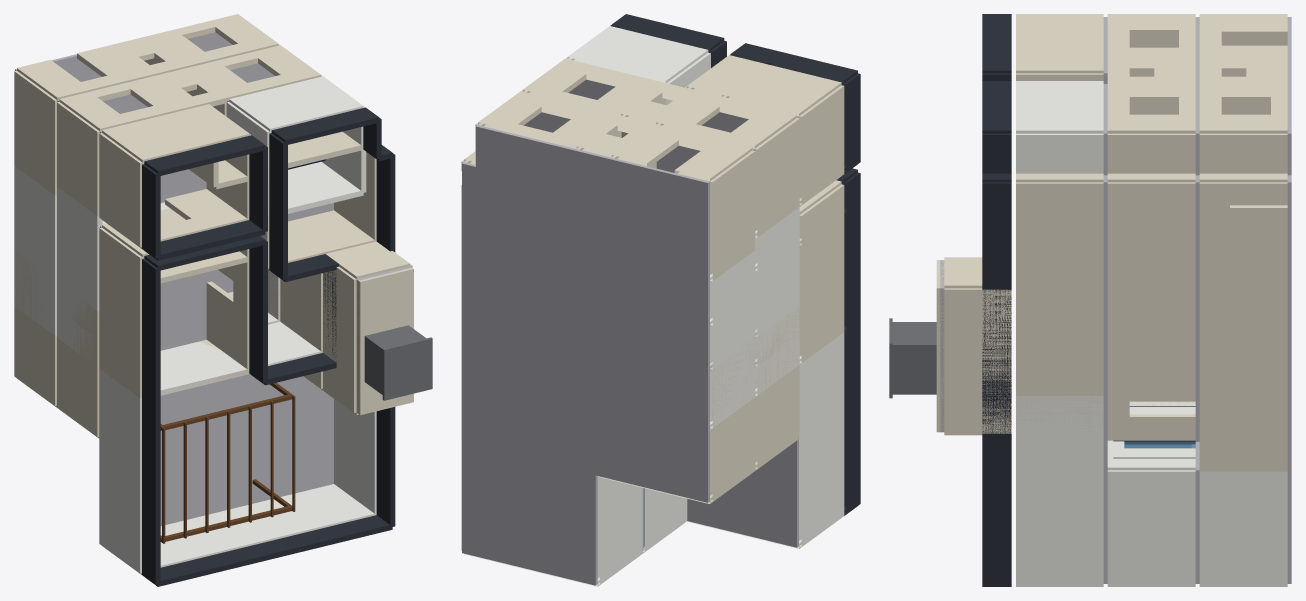
The model's file is 25MARLA_MODERN_60x100_3d.obj.
The picture shows the model from 3 angles, left to right: view 1: azimuth 30°, elevation 25°; view 2: azimuth 150°, elevation 25°; view 3: azimuth 270°, elevation 25°; orthographic projection. The views are drawn at different scales.
Size of the model in its own units: 10.9 by 18.06 by 14.66.
